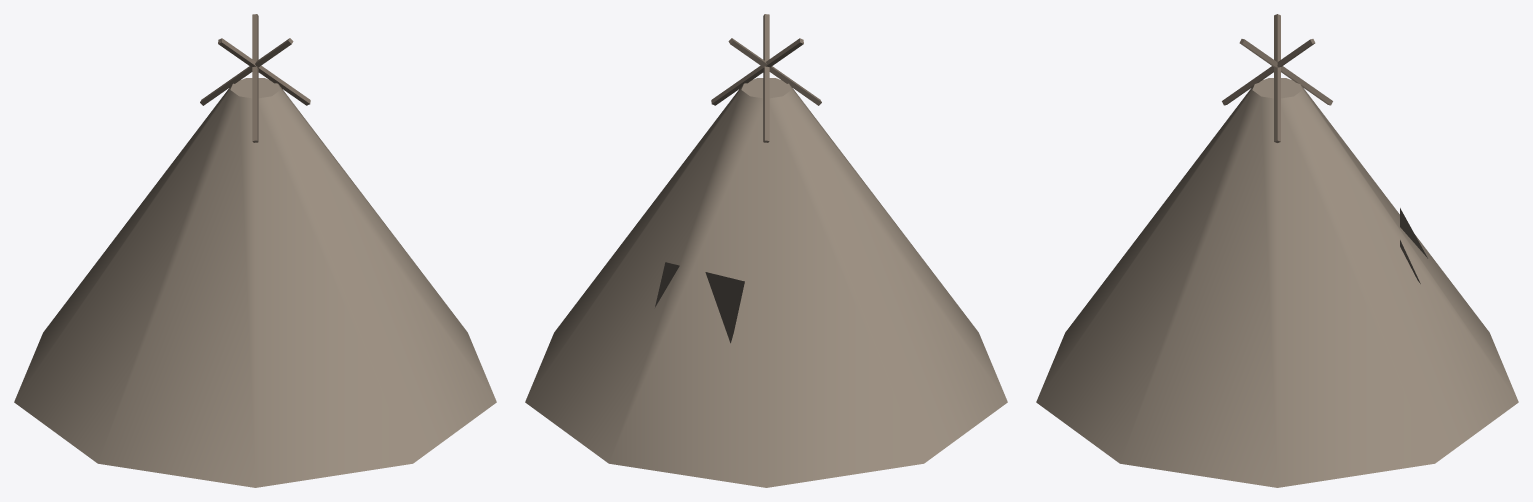
The model's file is tent_red.gltf.
The picture shows the model from 3 angles, left to right: view 1: azimuth 30°, elevation 25°; view 2: azimuth 150°, elevation 25°; view 3: azimuth 270°, elevation 25°; orthographic projection.
Parts seen in each view (by area): view 1: Body; view 2: Body; view 3: Body.
Boxes of the visible parts, x1,y1,x2,y2 form: Body: [14, 14, 496, 487]; Body: [525, 14, 1007, 487]; Body: [1036, 14, 1518, 487].
Size of the model in its own units: 4.66 by 3.83 by 4.73.
